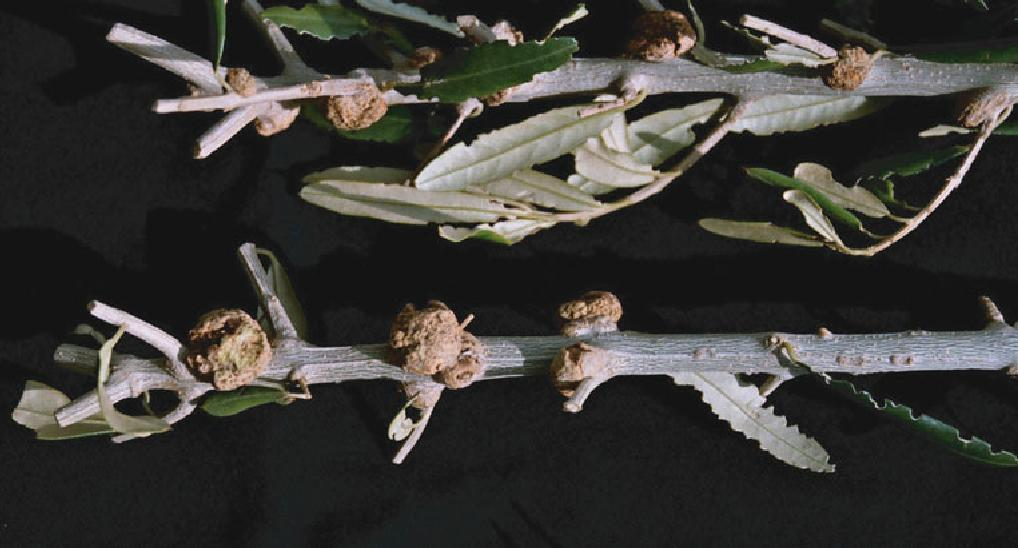Tuberculosis: (379, 298, 493, 400), (180, 302, 279, 394), (318, 63, 398, 134), (542, 339, 616, 403), (623, 5, 703, 64), (548, 289, 629, 338), (818, 41, 874, 93), (252, 96, 304, 138), (218, 67, 262, 99)
